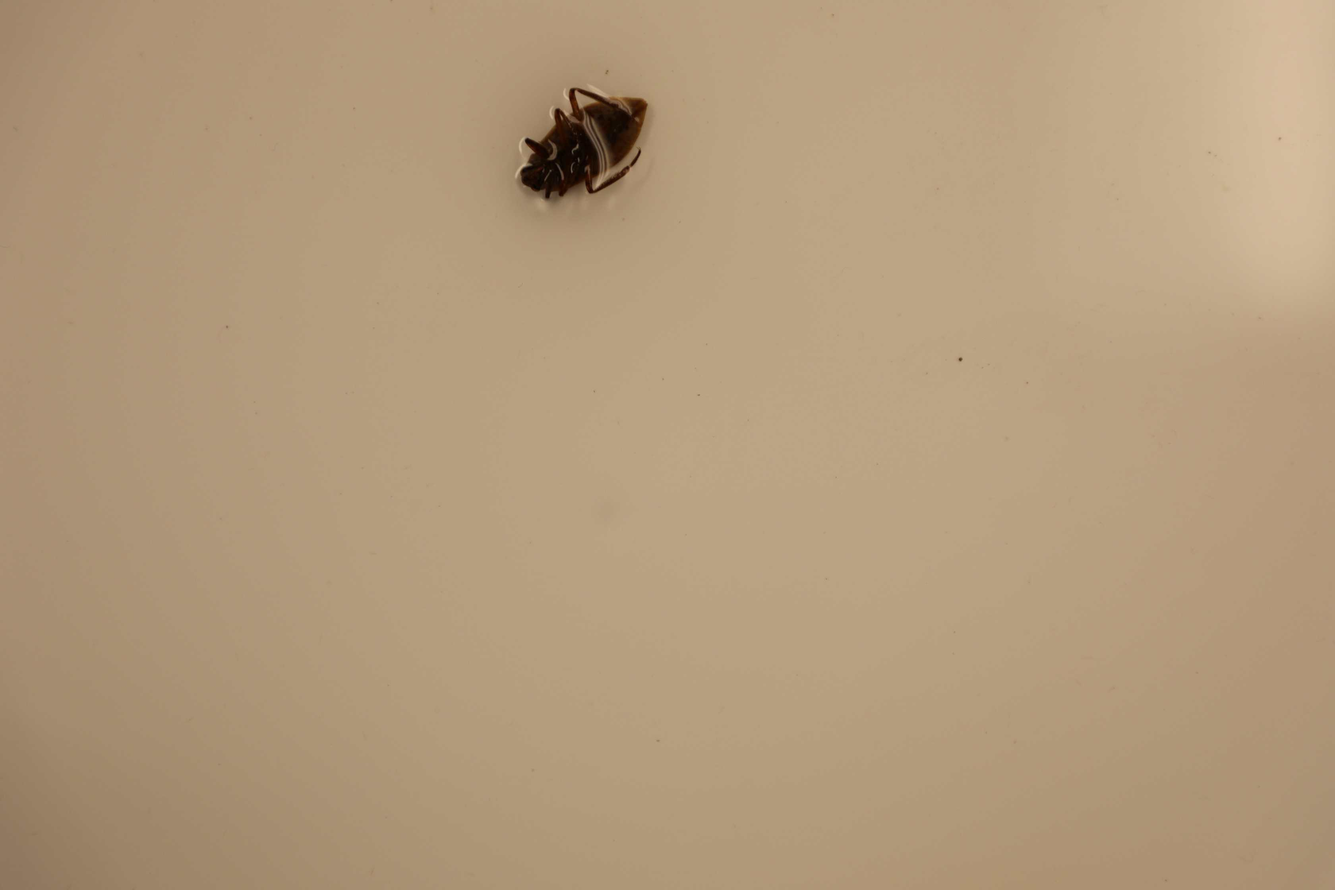Other: (514, 81, 649, 208)
